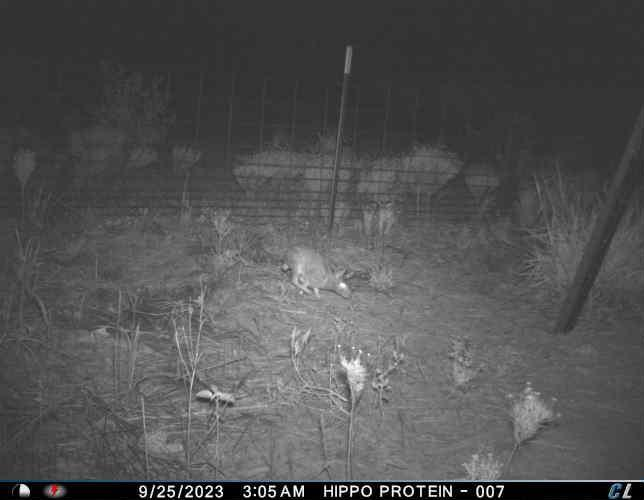Rabbit: (281, 242, 356, 302)
